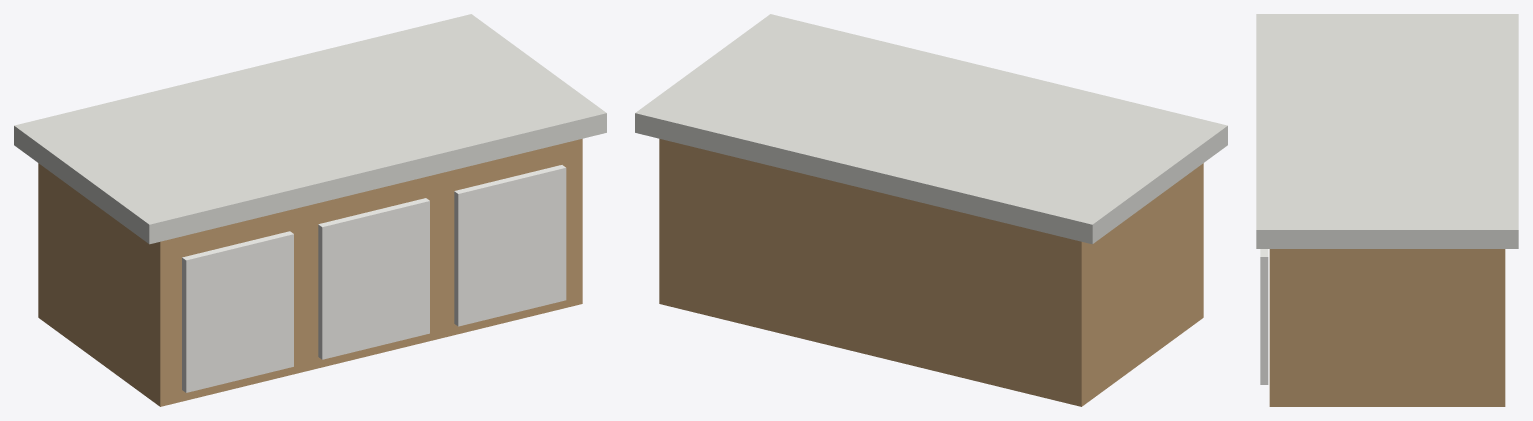
Rendered from island-cabinet-premium.gltf.
The picture shows the model from 3 angles, left to right: view 1: azimuth 30°, elevation 25°; view 2: azimuth 150°, elevation 25°; view 3: azimuth 270°, elevation 25°; orthographic projection. The views are drawn at different scales.
Parts seen in each view (by area): view 1: island-cabinet-premium; view 2: island-cabinet-premium; view 3: island-cabinet-premium.
Boxes of the visible parts, x1=… form: island-cabinet-premium: x1=14, y1=14, x2=606, y2=406; island-cabinet-premium: x1=635, y1=14, x2=1227, y2=406; island-cabinet-premium: x1=1256, y1=14, x2=1518, y2=406.
Size of the model in its own units: 1.95 by 0.78 by 1.
